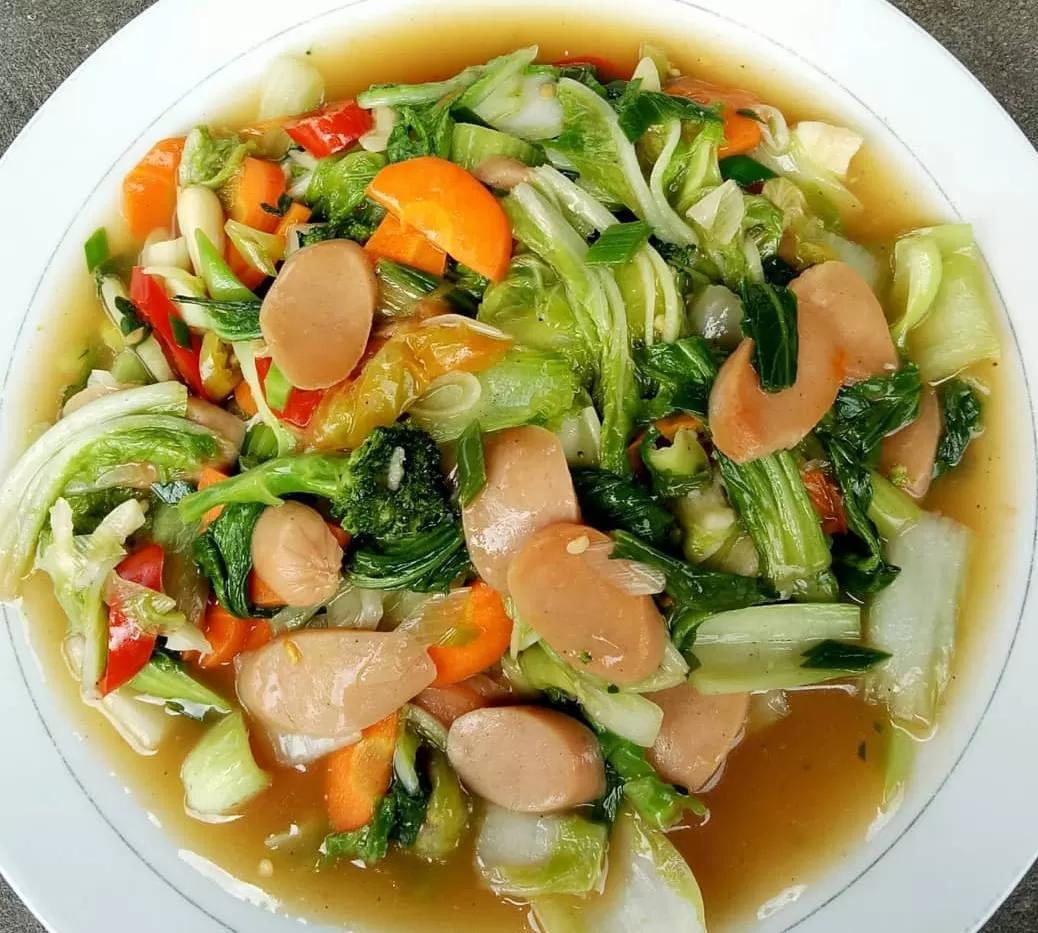buah_sayur_lainnya: (662, 480, 940, 675), (523, 117, 721, 388)
buah_sayur_vitA: (388, 158, 482, 244)
